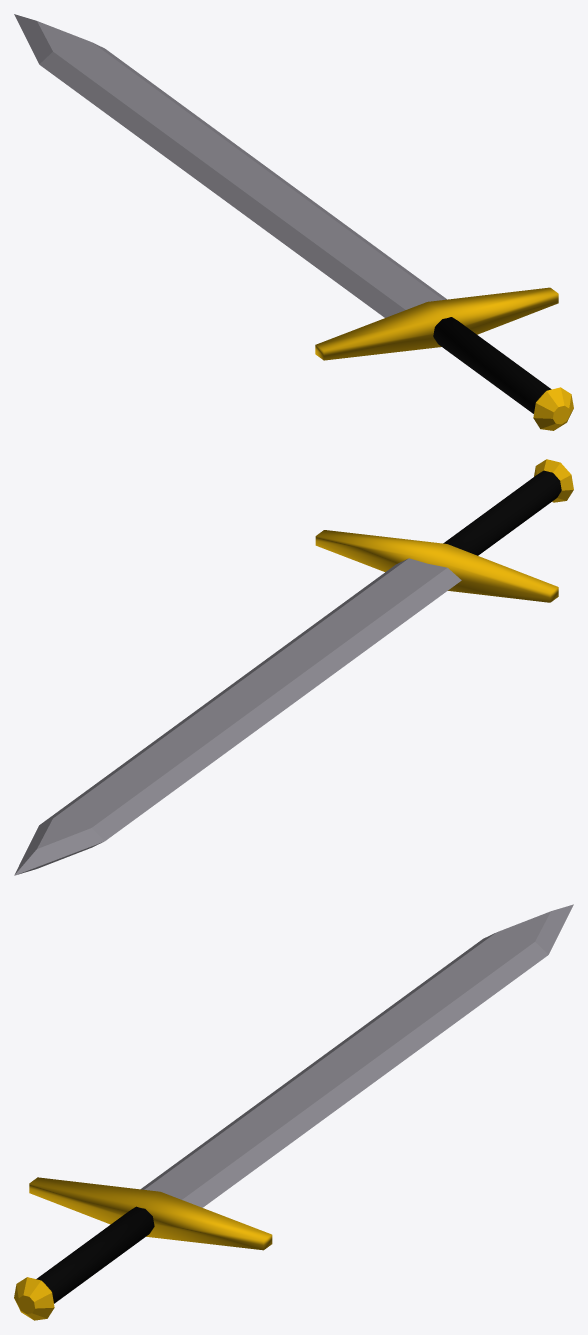
Rendered from sword.glb.
The picture shows the model from 3 angles, top to bottom: view 1: azimuth 30°, elevation 25°; view 2: azimuth 150°, elevation 25°; view 3: azimuth 330°, elevation 25°; orthographic projection.
Visible parts, largest first — view 1: Blade, Hilt, Handle, HandleBottom; view 2: Blade, Hilt, Handle, HandleBottom; view 3: Blade, Hilt, Handle, HandleBottom.
Part boxes in pixels (bbox=[...]): Blade: bbox=[14, 14, 446, 317]; Hilt: bbox=[315, 287, 558, 360]; Handle: bbox=[433, 317, 551, 413]; HandleBottom: bbox=[533, 387, 573, 430]; Blade: bbox=[14, 558, 461, 875]; Hilt: bbox=[315, 530, 558, 602]; Handle: bbox=[443, 470, 561, 555]; HandleBottom: bbox=[534, 459, 573, 502]; Blade: bbox=[141, 904, 573, 1207]; Hilt: bbox=[29, 1177, 272, 1250]; Handle: bbox=[36, 1206, 154, 1303]; HandleBottom: bbox=[14, 1277, 54, 1320].
Bounding box in the file's own units: 5.49 × 0.936 × 22.17.
4 materials, 4 textured.
